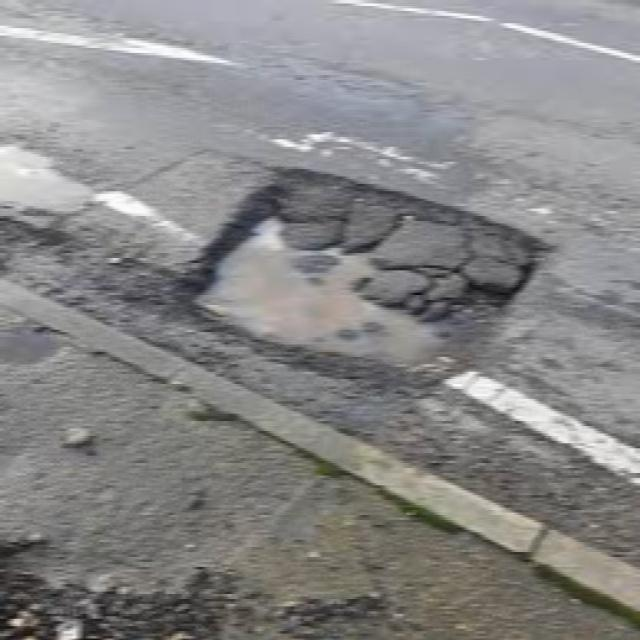Pothole: (163, 152, 549, 367)
